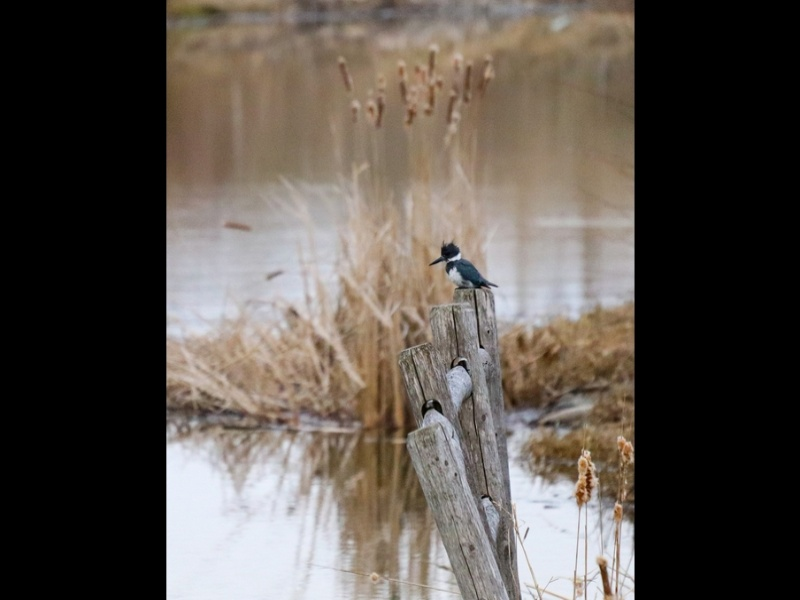kingfisher: (428, 241, 500, 292)
